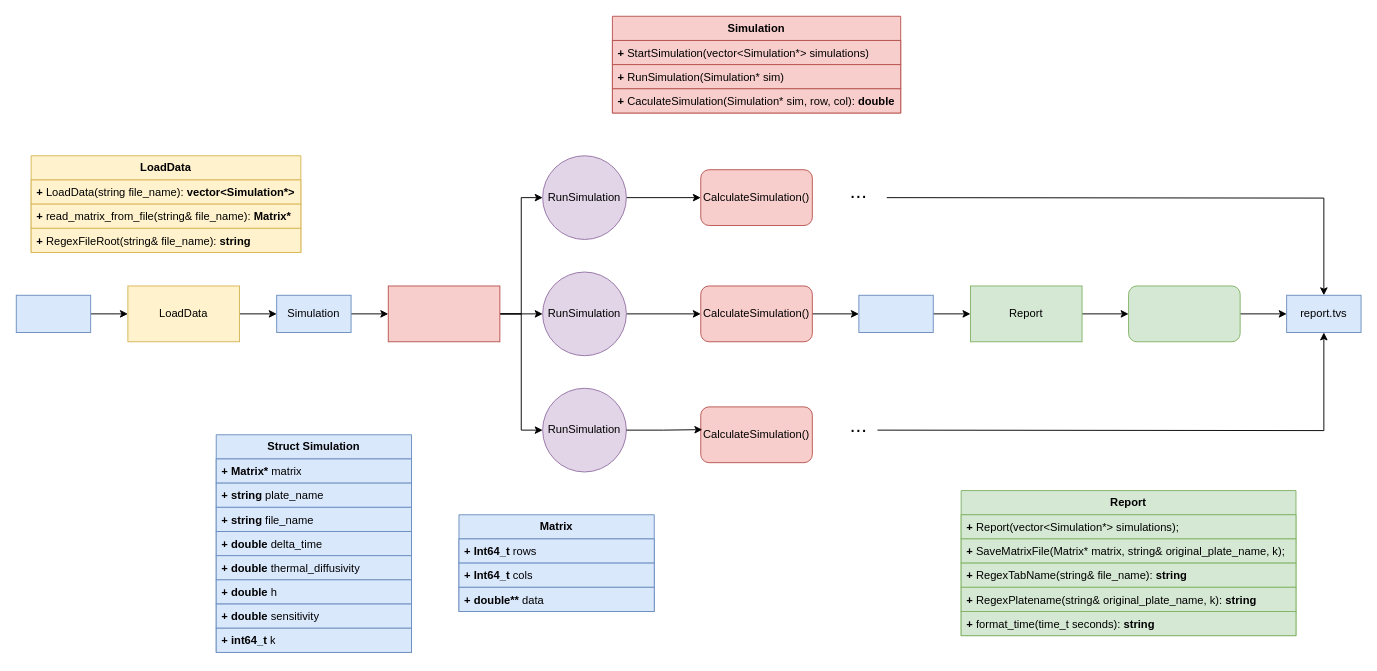
The diagram is 1377 pixels wide and 671 high, and some of its shapes have lost their labels. The centre of each missing label's shape, as x and y in pixels:
"job001.txt" belongs at point 53,313.
"SaveMatrixFile()" belongs at point 1184,313.
"Simulation[i]" belongs at point 895,313.
"StartSimulation" belongs at point 443,313.
